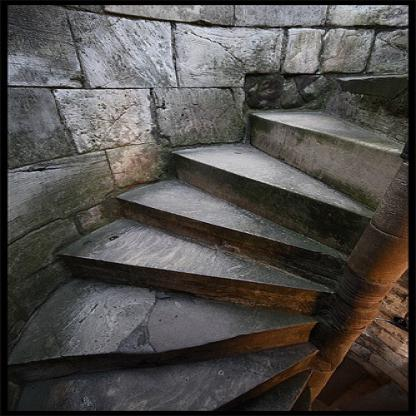stairs: (56, 244, 318, 411)
